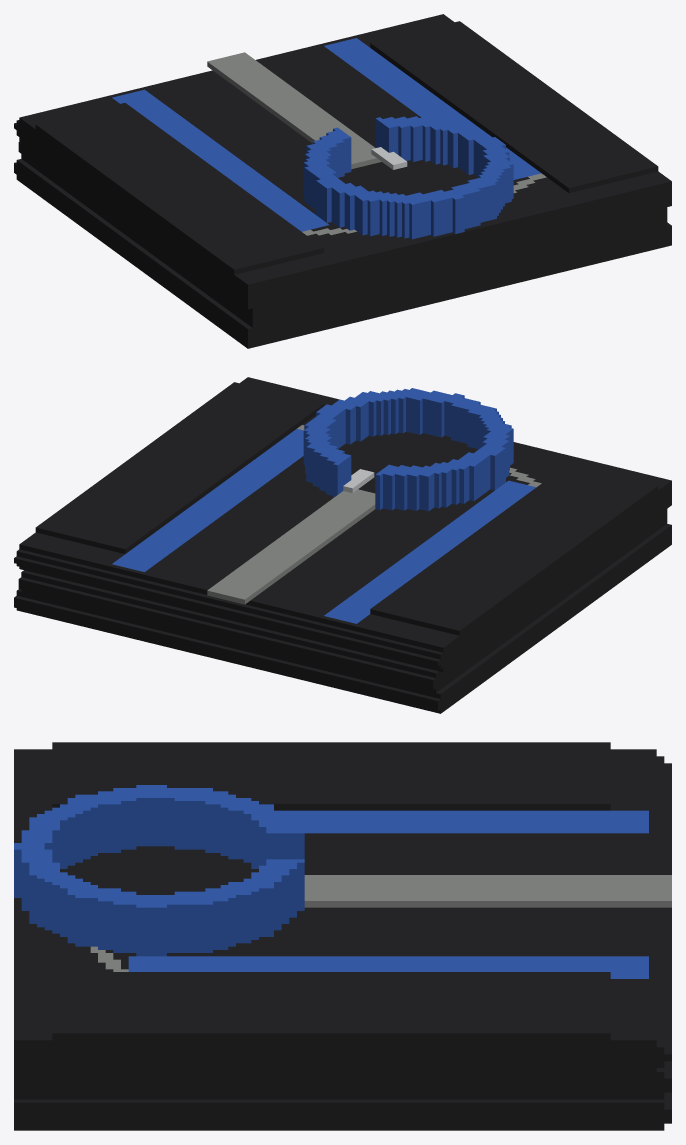
File: wetsuit_jacket.glb
The picture shows the model from 3 angles, top to bottom: view 1: azimuth 30°, elevation 25°; view 2: azimuth 150°, elevation 25°; view 3: azimuth 270°, elevation 25°; orthographic projection. The views are drawn at different scales.
Visible parts, largest first — view 1: wetsuit_jacket:compound; view 2: wetsuit_jacket:compound; view 3: wetsuit_jacket:compound.
Part boxes in pixels (bbox=[...]): wetsuit_jacket:compound: bbox=[14, 14, 671, 348]; wetsuit_jacket:compound: bbox=[14, 377, 671, 713]; wetsuit_jacket:compound: bbox=[14, 742, 671, 1130].
Bounding box in the file's own units: 0.36 × 0.08 × 0.344.
